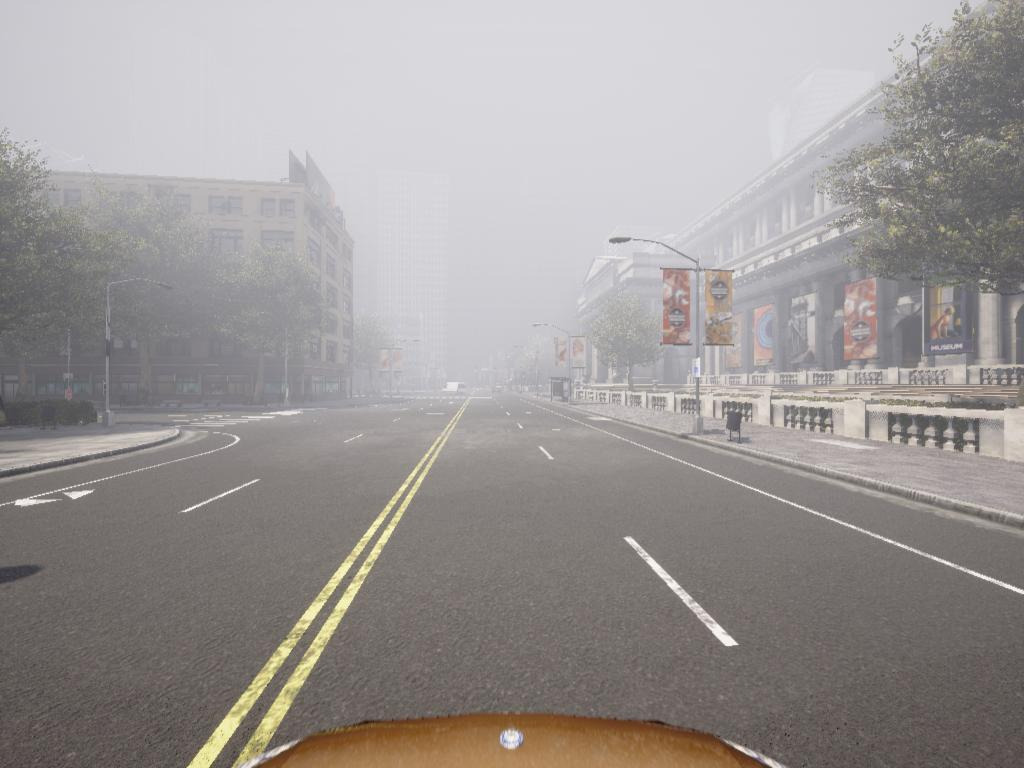traffic_light: (523, 372, 526, 380), (475, 367, 478, 373), (494, 367, 496, 374)
